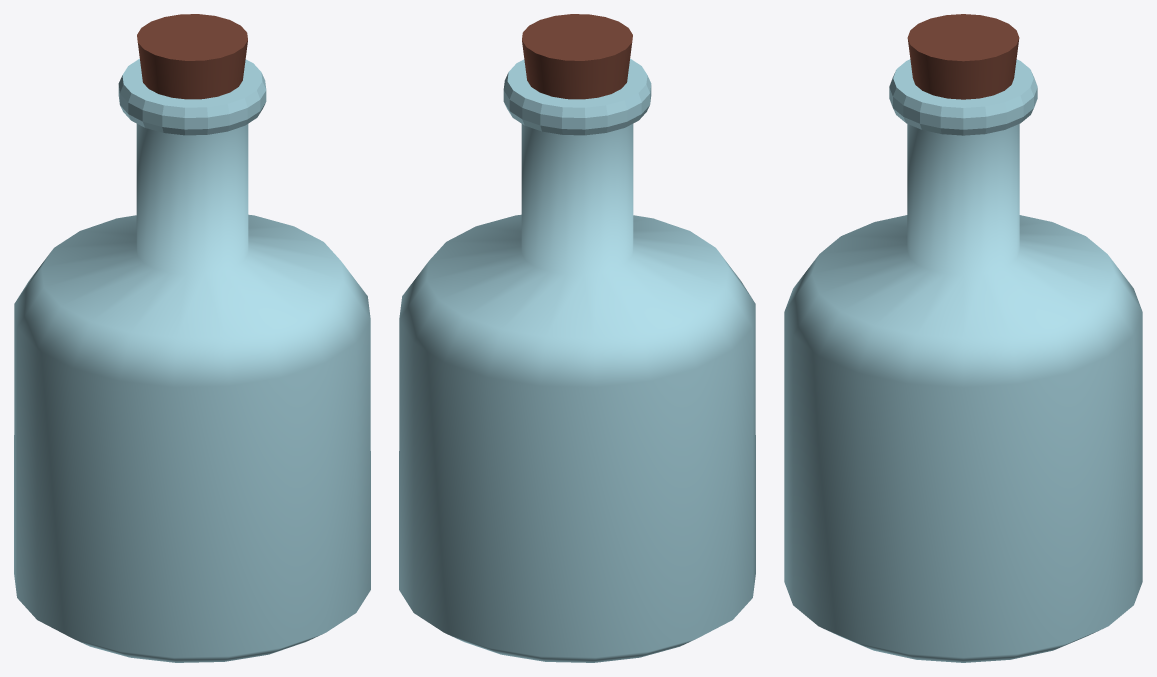
File: SM_potion bottle blue.fbx
3 views of the same model, side by side, from view 1: azimuth 30°, elevation 25°; view 2: azimuth 150°, elevation 25°; view 3: azimuth 270°, elevation 25° (orthographic).
Visible parts, largest first — view 1: pCylinder13; view 2: pCylinder13; view 3: pCylinder13.
Part boxes in pixels (x1,y1,x2,y2): pCylinder13: (14, 14, 370, 662); pCylinder13: (399, 14, 755, 662); pCylinder13: (784, 14, 1142, 662).
Size of the model in its own units: 2 by 3.46 by 2.
